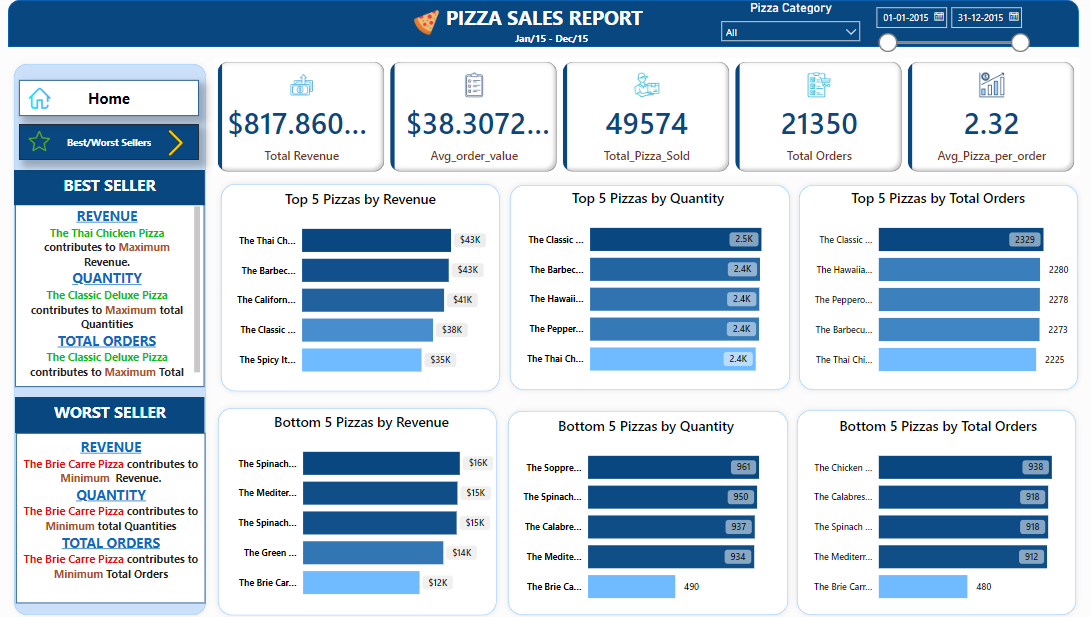

This screenshot's page, from the dashboard's own definition file:
{"tool":"powerbi","page":{"name":"Best/Worst Sellers","canvas":[1500,850],"ordinal":1},"visuals":[{"type":"cardVisual","fields":{"Data":["Measures (2).Total Revenue","Measures (2).Avg_order_value","Measures (2).Total_Pizza_Sold","Measures (2).Total Orders","Measures (2).Avg_Pizza_per_order"]},"box":[300.9,78.8,1178.8,160.3],"z":0},{"type":"shape","box":[21,0,1458.7,64.4],"z":1000},{"type":"textbox","box":[604.5,0,291.7,47.3],"z":2000},{"type":"textbox","box":[684.6,38.1,151.1,40.7],"z":3000},{"type":"image","box":[567.7,7.9,44.7,46],"z":4000},{"type":"shape","box":[693.3,551.7,397.8,294.2],"z":5000},{"type":"barChart","title":"Bottom 5 Pizzas by Quantity","fields":{"Category":["pizza_sales.pizza_name"],"Y":["Measures (2).Total_Pizza_Sold"]},"box":[705.2,566.2,367.5,270.4],"z":6000},{"type":"shape","box":[298.8,548.2,395.9,298.8],"z":7000},{"type":"barChart","title":"Bottom 5 Pizzas by Revenue","fields":{"Category":["pizza_sales.pizza_name"],"Y":["Measures (2).Total Revenue"]},"box":[316.7,561.8,369,270.4],"z":8000},{"type":"shape","box":[1087,550.3,396.4,295.6],"z":9000},{"type":"barChart","title":"Bottom 5 Pizzas by Total Orders","fields":{"Category":["pizza_sales.pizza_name"],"Y":["Measures (2).Total Orders"]},"box":[1101.1,566.2,373.5,270.4],"z":10000},{"type":"shape","box":[20.4,79,277.9,766.9],"z":11000},{"type":"textbox","box":[29.9,540.8,258.5,49.3],"z":12000},{"type":"textbox","box":[29.9,274.9,258.5,252.5],"z":13000},{"type":"textbox","box":[28.4,231.6,260,47.8],"z":14000},{"type":"textbox","box":[31.4,590.1,258.5,231.6],"z":15000},{"type":"slicer","title":"Pizza Category","fields":{"Values":["pizza_sales.pizza_category"]},"box":[981.6,0,209.2,58.3],"z":16000},{"type":"slicer","title":"Pizza Category","fields":{"Values":["pizza_sales.order_date"]},"box":[1190.7,0,230.1,76.2],"z":17000},{"type":"shape","box":[696.1,243.8,397.8,295.6],"z":18000},{"type":"barChart","title":"Top 5 Pizzas by Quantity","fields":{"Category":["pizza_sales.pizza_name"],"Y":["Measures (2).Total_Pizza_Sold"]},"box":[708.3,256.1,367.8,271.1],"z":19000},{"type":"shape","box":[302,242,395.9,298.8],"z":20000},{"type":"barChart","title":"Top 5 Pizzas by Revenue","fields":{"Y":["Measures (2).Total Revenue"],"Category":["pizza_sales.pizza_name"]},"box":[316,257.5,369.2,271.1],"z":21000},{"type":"shape","box":[1089.7,243.8,396.4,295.6],"z":22000},{"type":"barChart","title":"Top 5 Pizzas by Total Orders","fields":{"Y":["Measures (2).Total Orders"],"Category":["pizza_sales.pizza_name"]},"box":[1101.1,255.5,373.5,271.9],"z":23000},{"type":"pageNavigator","box":[35.9,168.8,245,49.3],"z":24000},{"type":"pageNavigator","box":[35.9,109.1,245,49.3],"z":25000},{"type":"image","box":[218.1,171.8,62.7,46.3],"z":26000},{"type":"image","box":[43.3,109.1,40.3,49.3],"z":27000},{"type":"image","box":[43.3,167.3,38.8,49.3],"z":28000}]}

Visuals, with their boxes in screenshot pixels (x1, y1, x2, y2), scaled from the page's 1500x850 canvas onto the 1090x617 screenshot:
cardVisual - Measures (2).Total Revenue x Measures (2).Avg_order_value: BBox(219, 57, 1075, 174)
shape: BBox(15, 0, 1075, 47)
textbox: BBox(439, 0, 651, 34)
textbox: BBox(497, 28, 607, 57)
image: BBox(413, 6, 445, 39)
shape: BBox(504, 400, 793, 614)
"Bottom 5 Pizzas by Quantity" barChart: BBox(512, 411, 779, 607)
shape: BBox(217, 398, 505, 615)
"Bottom 5 Pizzas by Revenue" barChart: BBox(230, 408, 498, 604)
shape: BBox(790, 399, 1078, 614)
"Bottom 5 Pizzas by Total Orders" barChart: BBox(800, 411, 1072, 607)
shape: BBox(15, 57, 217, 614)
textbox: BBox(22, 393, 210, 428)
textbox: BBox(22, 200, 210, 383)
textbox: BBox(21, 168, 210, 203)
textbox: BBox(23, 428, 211, 596)
"Pizza Category" slicer: BBox(713, 0, 865, 42)
"Pizza Category" slicer: BBox(865, 0, 1032, 55)
shape: BBox(506, 177, 795, 392)
"Top 5 Pizzas by Quantity" barChart: BBox(515, 186, 782, 383)
shape: BBox(219, 176, 507, 393)
"Top 5 Pizzas by Revenue" barChart: BBox(230, 187, 498, 384)
shape: BBox(792, 177, 1080, 392)
"Top 5 Pizzas by Total Orders" barChart: BBox(800, 185, 1072, 383)
pageNavigator: BBox(26, 123, 204, 158)
pageNavigator: BBox(26, 79, 204, 115)
image: BBox(158, 125, 204, 158)
image: BBox(31, 79, 61, 115)
image: BBox(31, 121, 60, 157)
